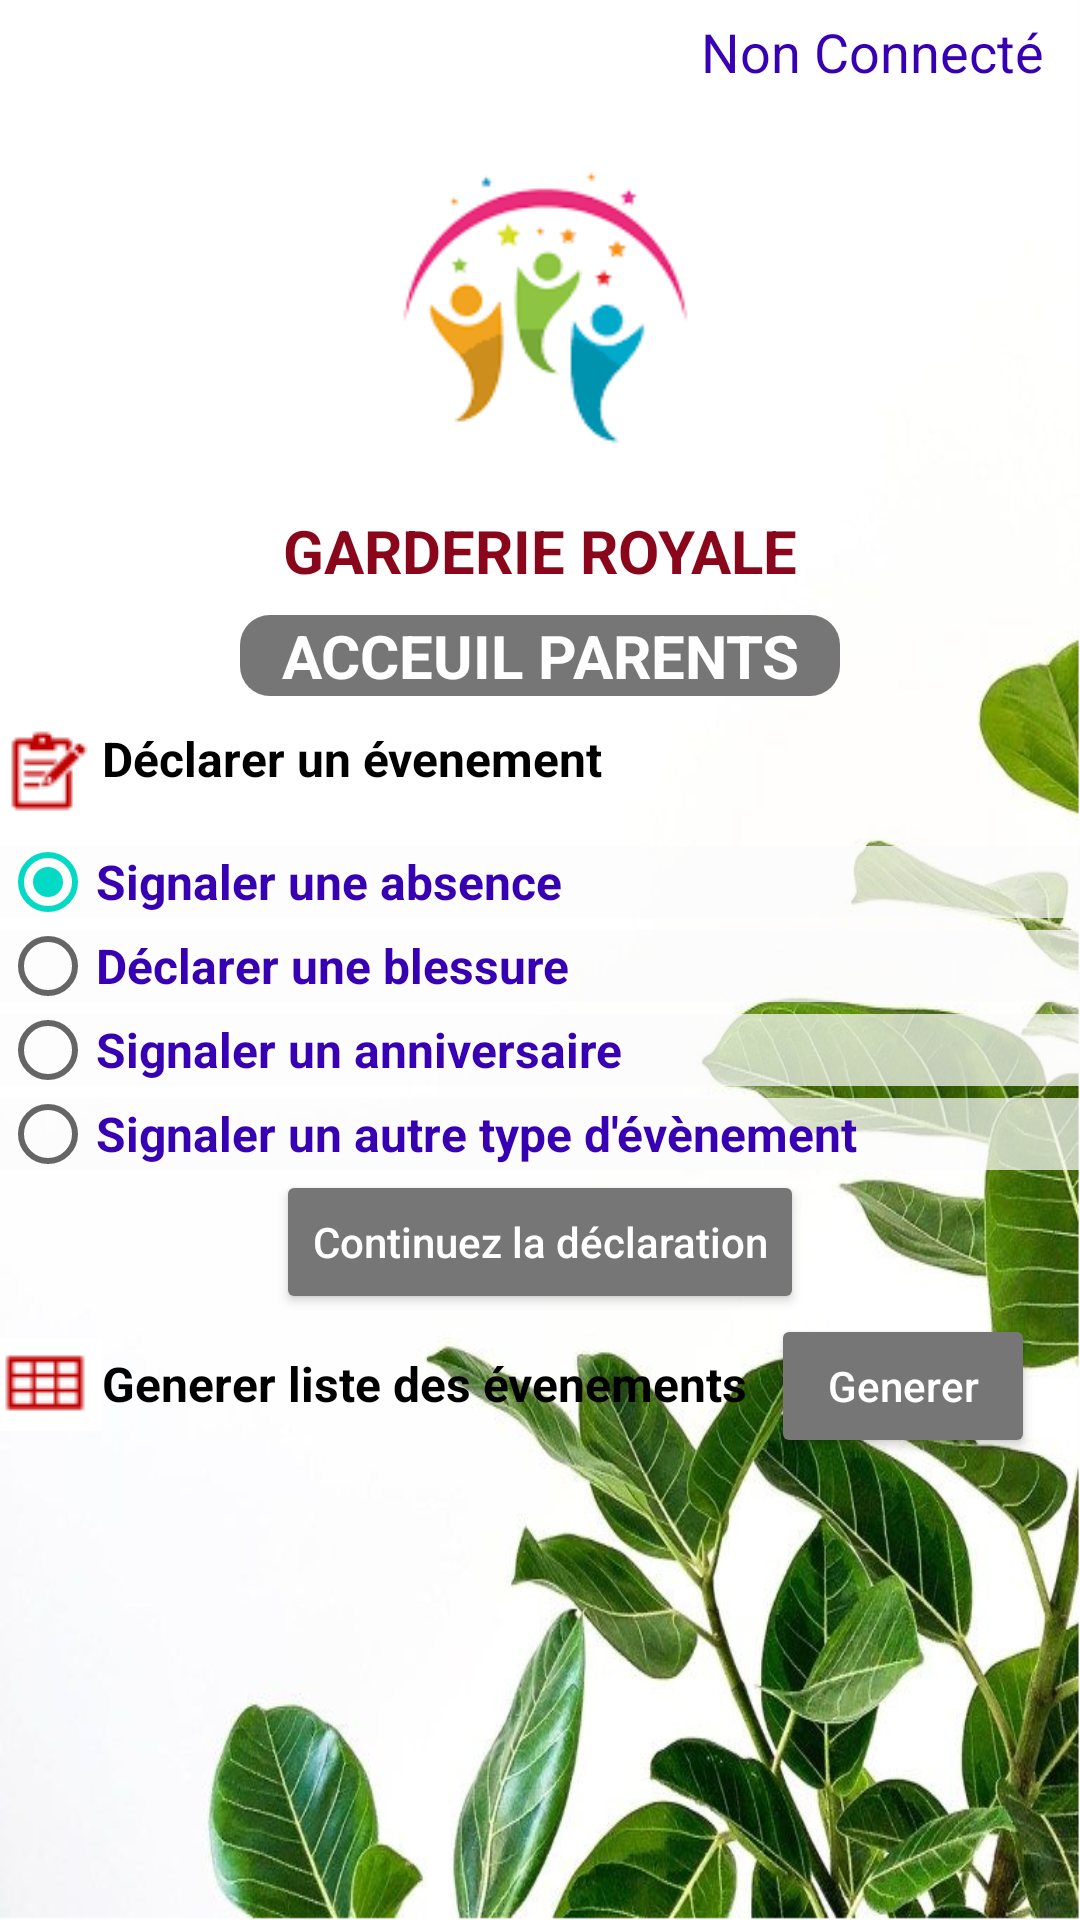

Locate icon controls on the screen. Image size 1080px x 1920px, boxes as (x1, y1, x2, y2).
declarerevenement: (11, 731, 87, 811)
listeevenement: (5, 1355, 85, 1411)
